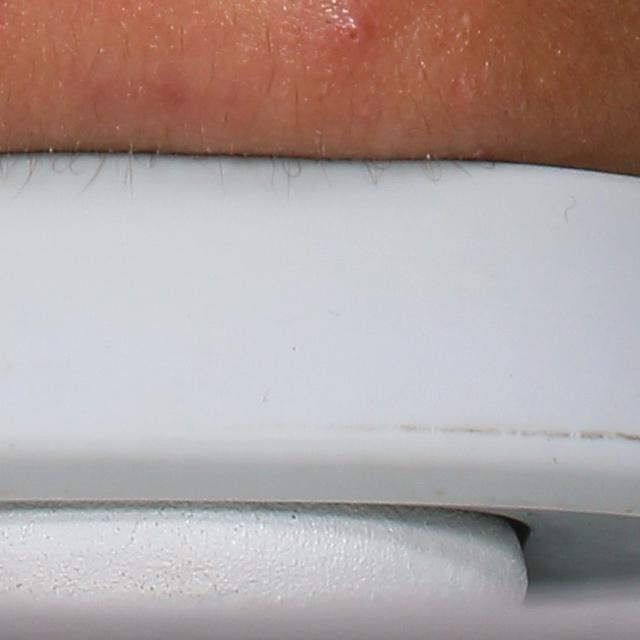papule: (340, 10, 376, 52)
